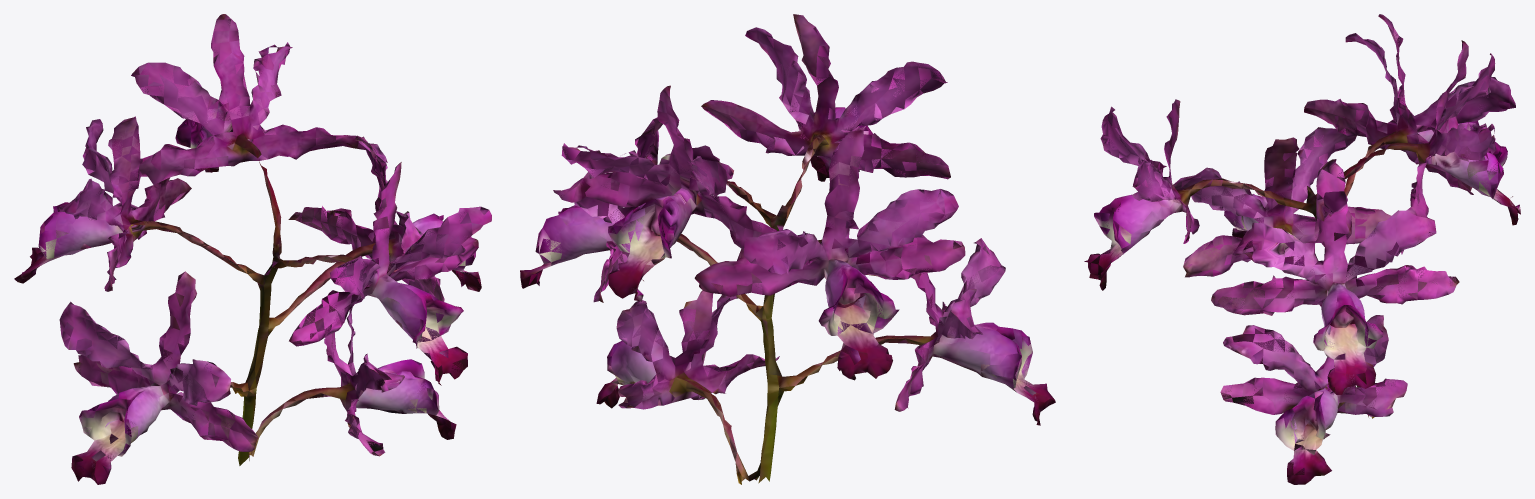
3 views of the same model, side by side, from view 1: azimuth 30°, elevation 25°; view 2: azimuth 150°, elevation 25°; view 3: azimuth 270°, elevation 25° (orthographic). The views are drawn at different scales.
Visible parts, largest first — view 1: 9d2d5bfa; view 2: 9d2d5bfa; view 3: 9d2d5bfa.
Boxes of the visible parts, x1,y1,x2,y2 form: 9d2d5bfa: (14, 14, 491, 484); 9d2d5bfa: (520, 14, 1055, 484); 9d2d5bfa: (1084, 14, 1520, 484).
Bounding box in the file's own units: 0.0918 × 0.0809 × 0.0828.
Materials: 1 (1 with a texture image).
